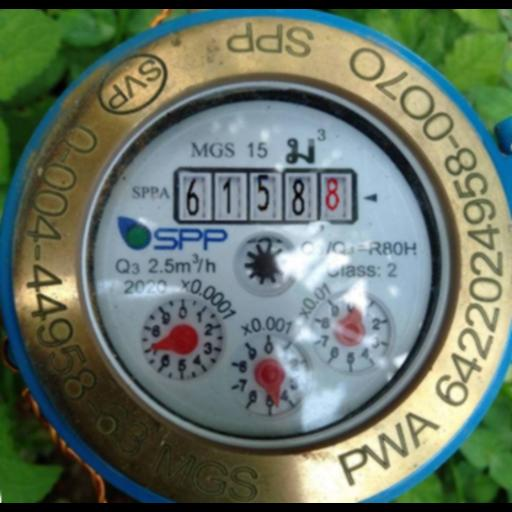1: (218, 178, 238, 219)
5: (254, 178, 274, 220)
6: (184, 178, 205, 218)
8: (326, 179, 347, 218), (291, 179, 310, 219)
border_water_meter_number: (174, 167, 359, 225)
